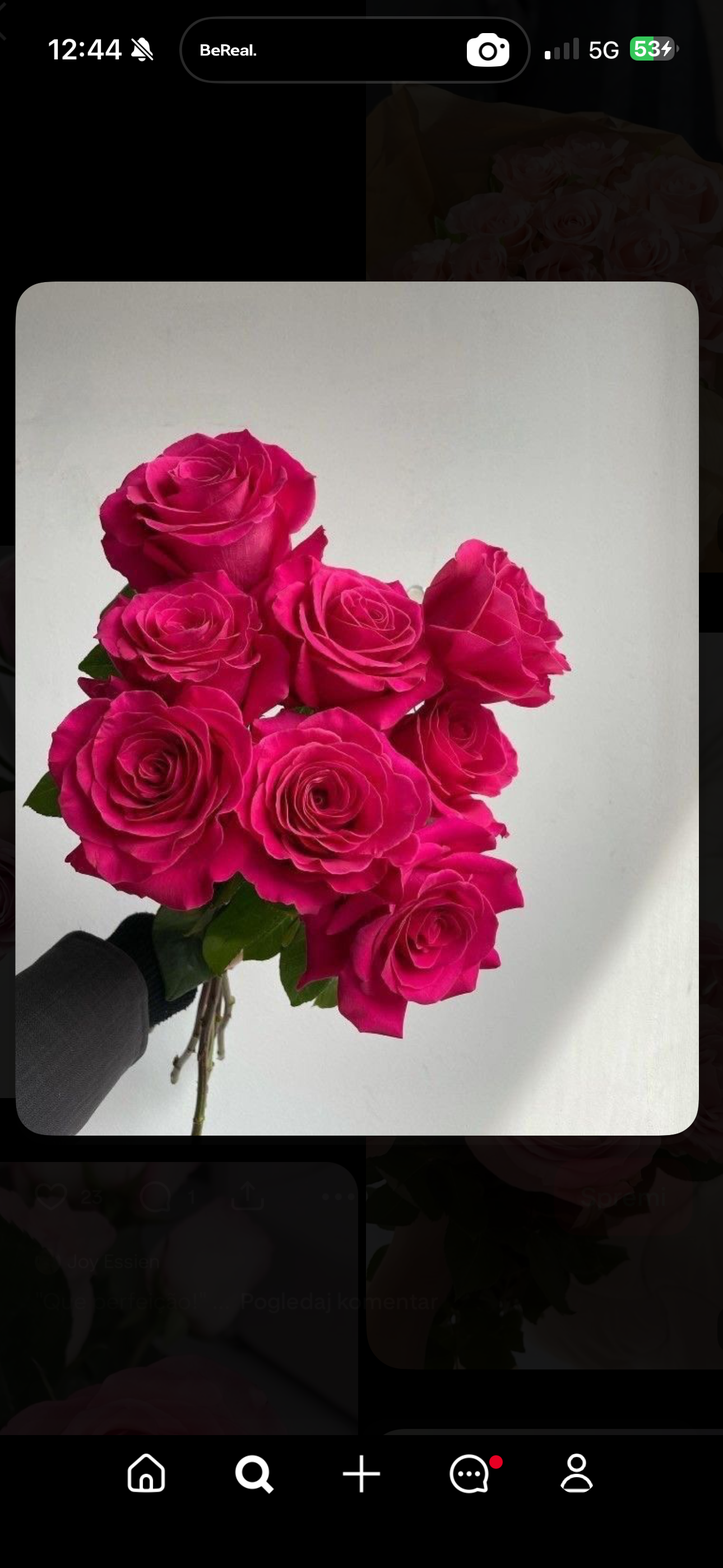rose: (298, 813, 529, 1040), (43, 682, 251, 910), (96, 423, 323, 587), (239, 707, 433, 898), (421, 536, 573, 712), (97, 568, 270, 703), (276, 561, 430, 704), (398, 699, 523, 809)
